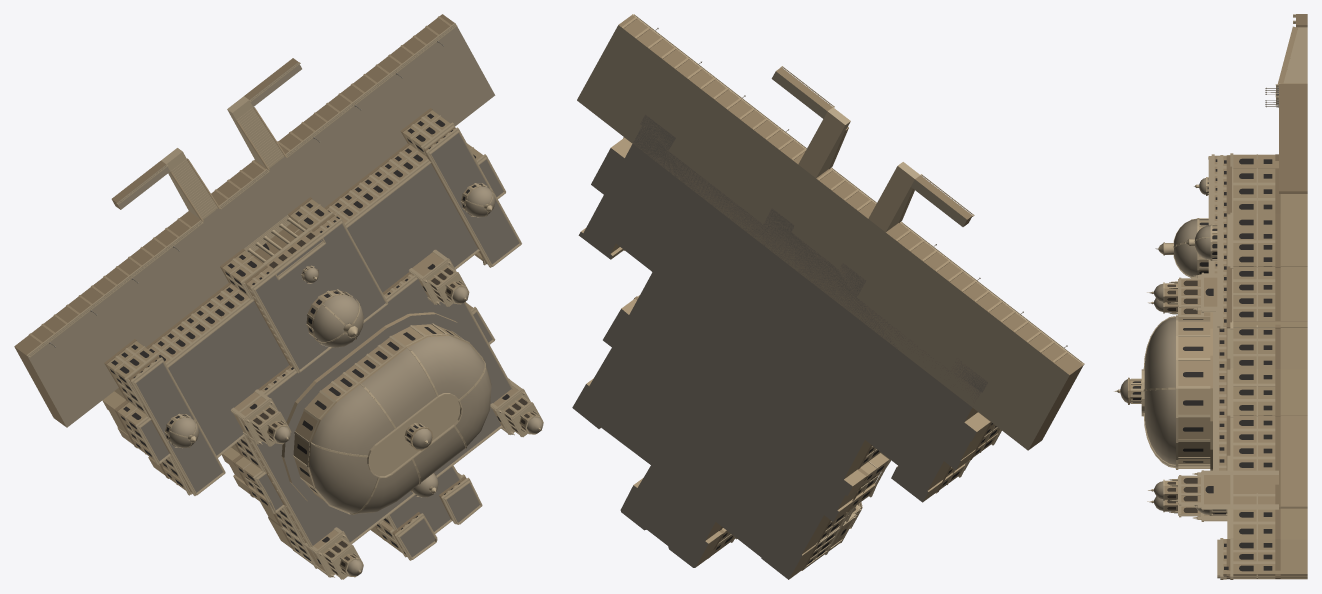
File: palau-nacional.glb
3 views of the same model, side by side, from view 1: azimuth 30°, elevation 25°; view 2: azimuth 150°, elevation 25°; view 3: azimuth 270°, elevation 25° (orthographic). The views are drawn at different scales.
Visible parts, largest first — view 1: palau-nacional; view 2: palau-nacional; view 3: palau-nacional.
Boxes of the visible parts, x1=… form: palau-nacional: x1=14, y1=14, x2=543, y2=579; palau-nacional: x1=572, y1=14, x2=1084, y2=579; palau-nacional: x1=1114, y1=14, x2=1307, y2=579.
Bounding box in the file's own units: 205 × 206 × 67.9.
